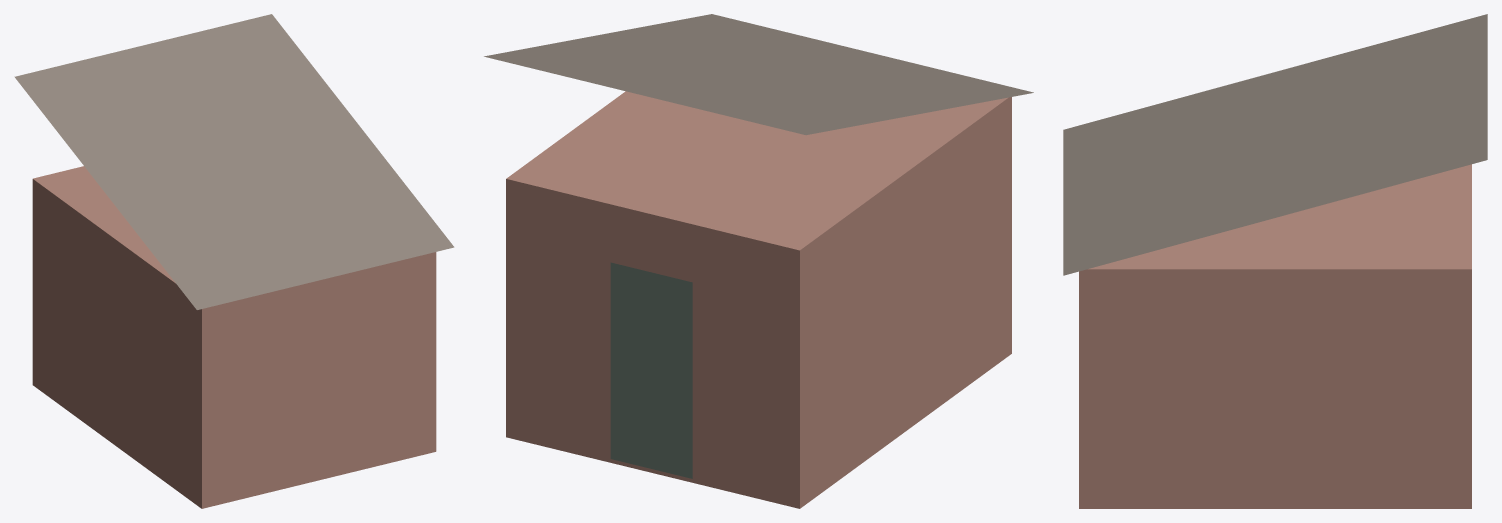
Rendered from recon_1835_north_a5_049__recommended_1835.glb.
3 renders of one model, left to right at view 1: azimuth 30°, elevation 25°; view 2: azimuth 150°, elevation 25°; view 3: azimuth 270°, elevation 25°, orthographic. The views are drawn at different scales.
Parts seen in each view (by area): view 1: recon_1835_north_a5_049__recommended_1835; view 2: recon_1835_north_a5_049__recommended_1835; view 3: recon_1835_north_a5_049__recommended_1835.
Boxes of the visible parts, left/top/right/bottom form: recon_1835_north_a5_049__recommended_1835: left=14, top=14, right=454, bottom=508; recon_1835_north_a5_049__recommended_1835: left=484, top=14, right=1033, bottom=508; recon_1835_north_a5_049__recommended_1835: left=1063, top=14, right=1487, bottom=508.
Size of the model in its own units: 2.68 by 3.04 by 3.29.
